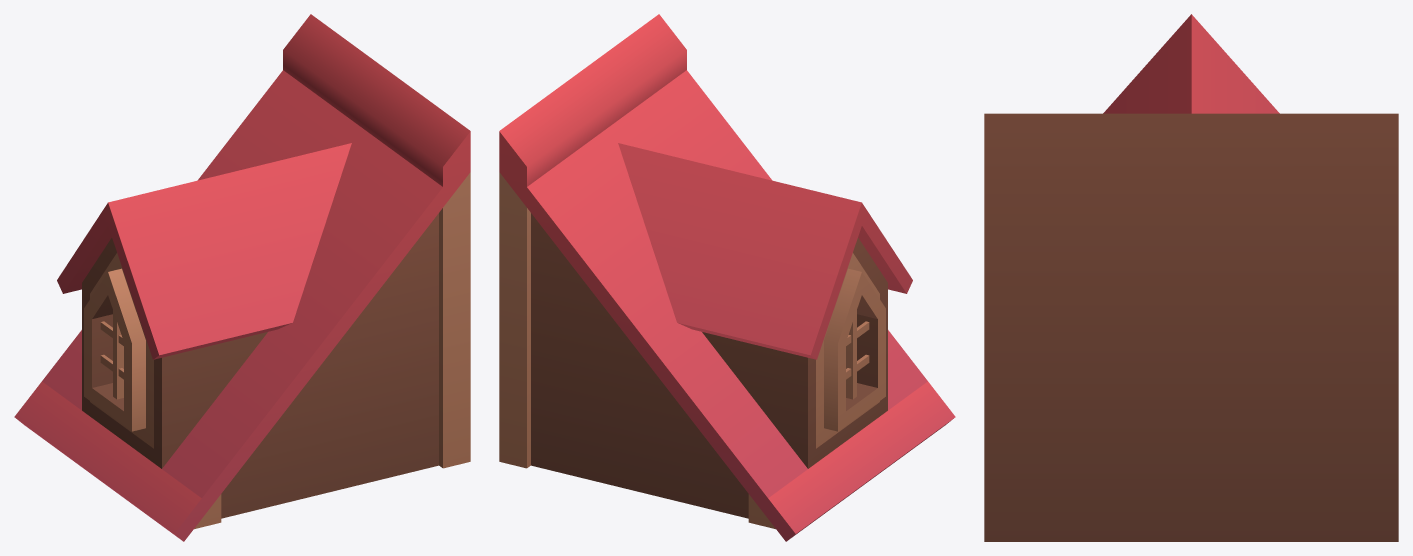
The model's file is roof-high-window.glb.
3 renders of one model, left to right at view 1: azimuth 30°, elevation 25°; view 2: azimuth 150°, elevation 25°; view 3: azimuth 270°, elevation 25°, orthographic. The views are drawn at different scales.
Parts seen in each view (by area): view 1: roof-high-window; view 2: roof-high-window; view 3: roof-high-window.
Boxes of the visible parts, <box> form: roof-high-window: <box>14,14,470,541</box>; roof-high-window: <box>499,14,955,541</box>; roof-high-window: <box>984,14,1398,541</box>.
Bounding box in the file's own units: 1.07 × 1.18 × 1.
1 material, 1 textured.
